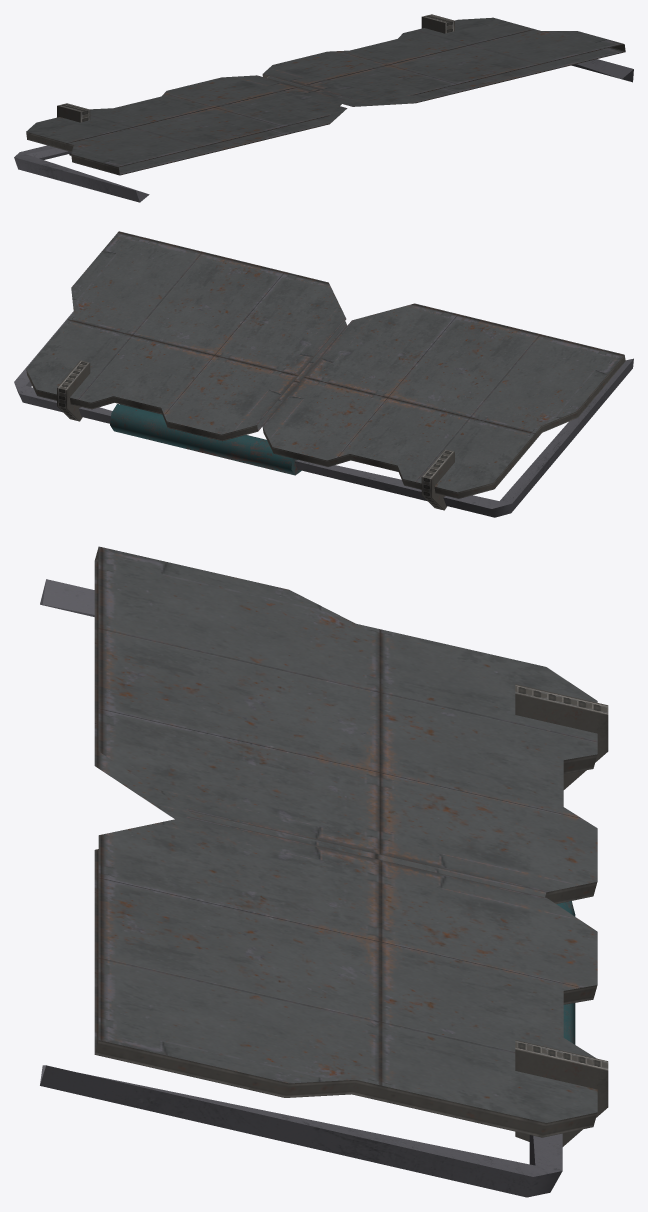
Rendered from ARC0910064.fbx.
The picture shows the model from 3 angles, top to bottom: view 1: azimuth 30°, elevation 25°; view 2: azimuth 150°, elevation 25°; view 3: azimuth 270°, elevation 25°; orthographic projection. The views are drawn at different scales.
Visible parts, largest first — view 1: smARC0910064; view 2: smARC0910064; view 3: smARC0910064.
Part boxes in pixels (<box>): smARC0910064: <box>14,14,633,202</box>; smARC0910064: <box>14,231,633,517</box>; smARC0910064: <box>40,546,608,1197</box>.
Bounding box in the file's own units: 346 × 58.09 × 168.
Materials: 1 (1 with a texture image).
